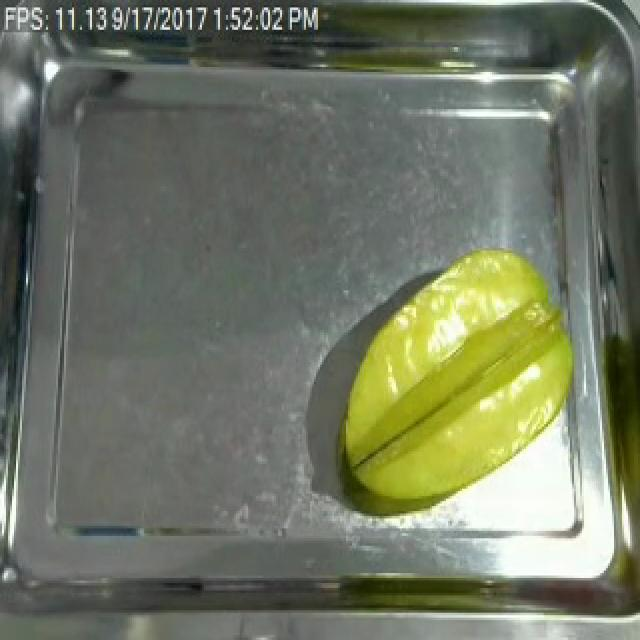fruit: (330, 238, 586, 516)
